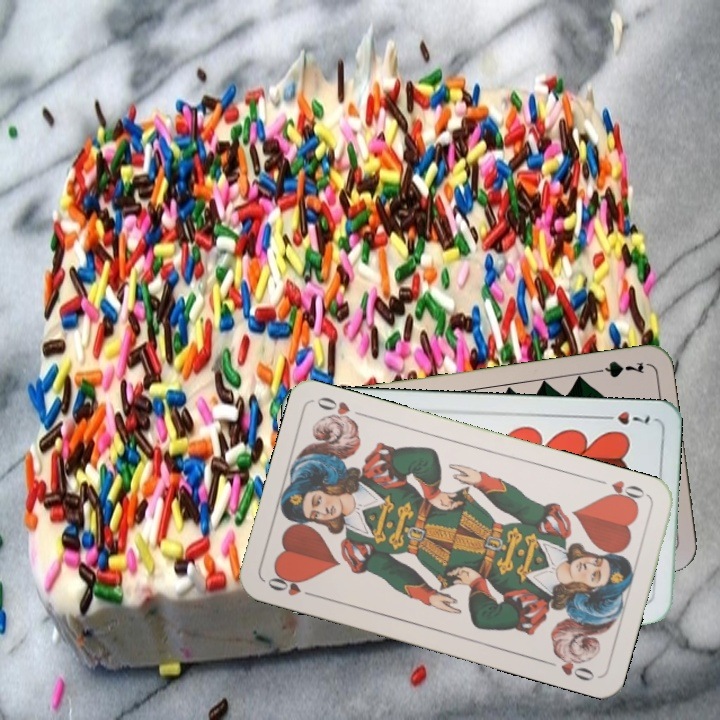G7: (587, 357, 647, 380)
H7: (596, 407, 653, 428)
HO: (592, 475, 650, 507), (263, 570, 320, 600)
